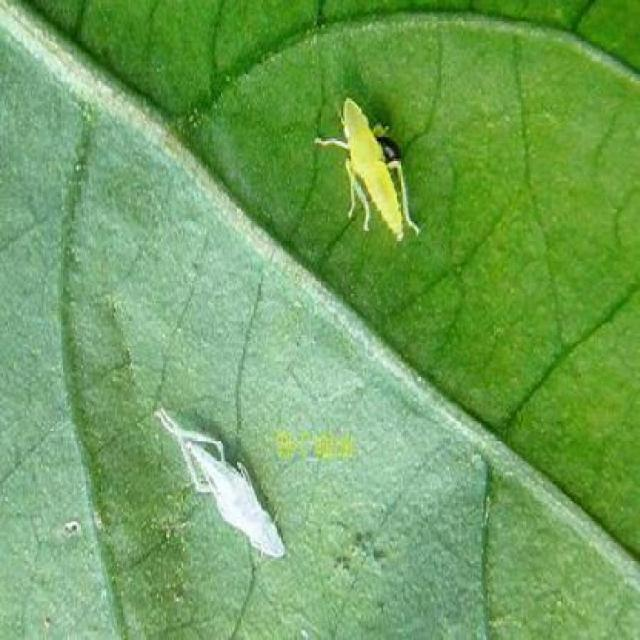green-leafhopper: (314, 100, 423, 242)
